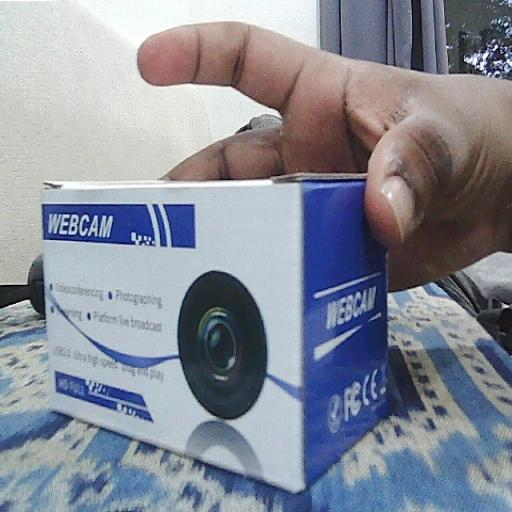webcam_box: (40, 176, 390, 494)
